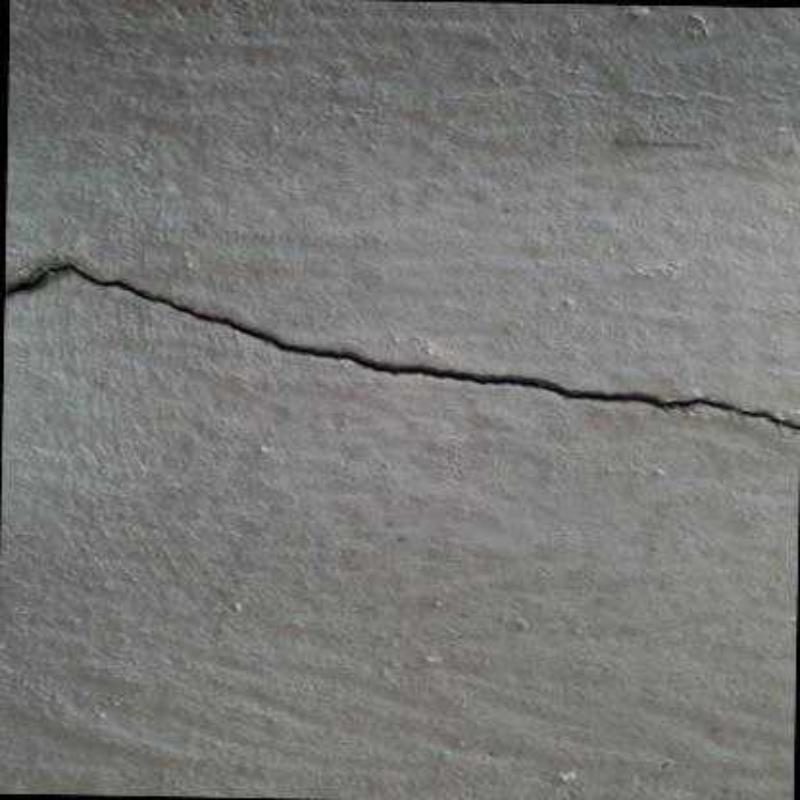pothole: (2, 253, 800, 437)
